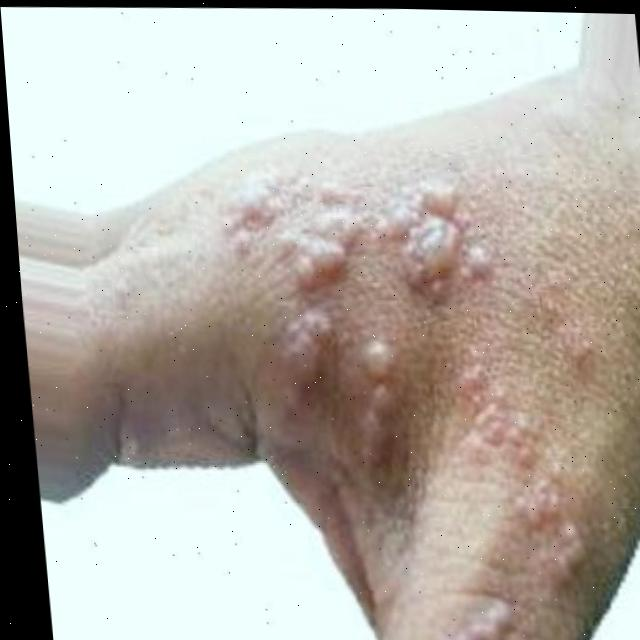Shingles: (222, 158, 623, 640)
